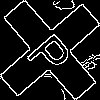P: (25, 25, 81, 80)
